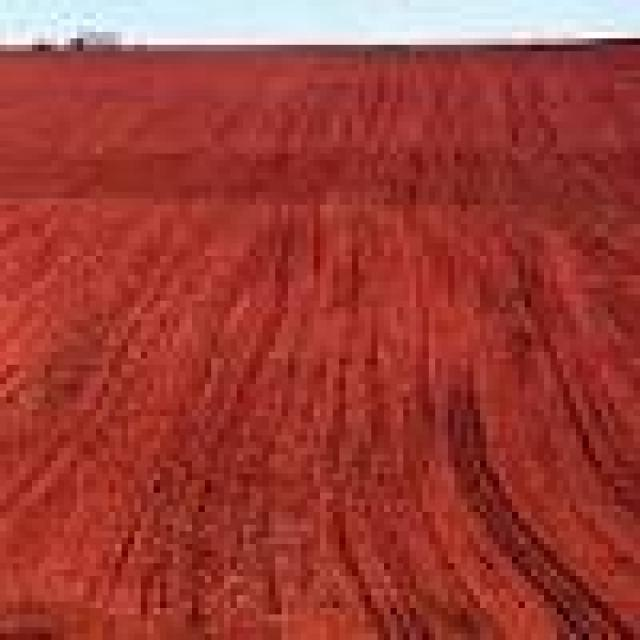Red Soil: (68, 92, 578, 614)
